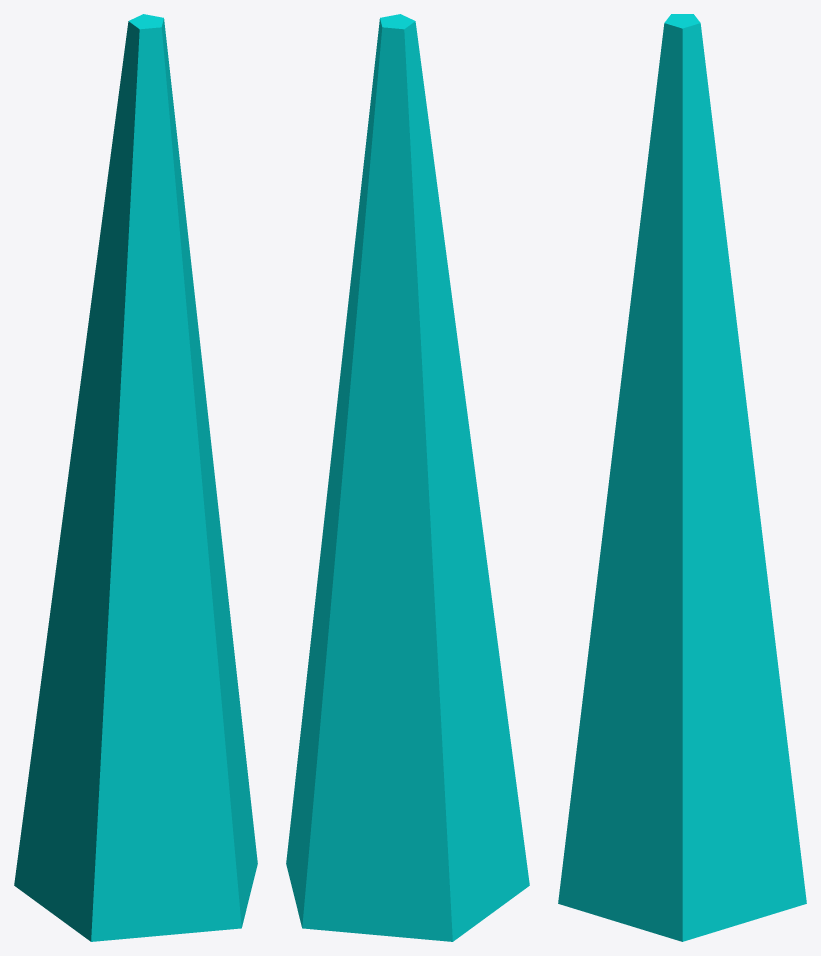
Rendered from SM_Env_Tree_01_Collision.fbx.
3 views of the same model, side by side, from view 1: azimuth 30°, elevation 25°; view 2: azimuth 150°, elevation 25°; view 3: azimuth 270°, elevation 25° (orthographic).
Visible parts, largest first — view 1: SM_Env_Tree_01_Collision; view 2: SM_Env_Tree_01_Collision; view 3: SM_Env_Tree_01_Collision.
Part boxes in pixels (bbox=[...]): SM_Env_Tree_01_Collision: bbox=[14, 14, 257, 941]; SM_Env_Tree_01_Collision: bbox=[286, 14, 529, 941]; SM_Env_Tree_01_Collision: bbox=[558, 14, 806, 941].
Size of the model in its own units: 72.66 by 294 by 76.4.
